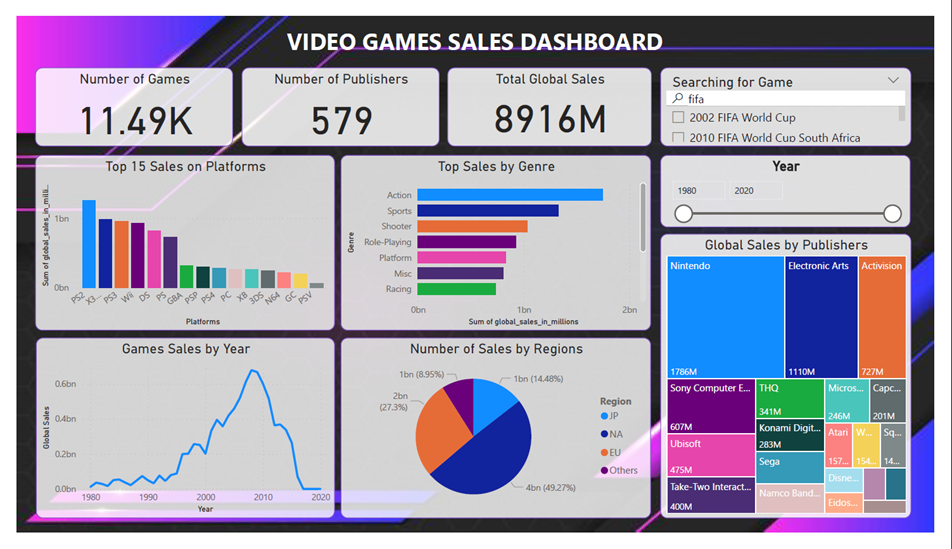

This screenshot's page, from the dashboard's own definition file:
{"tool":"powerbi","page":{"name":"Page 1","canvas":[1280,720],"ordinal":0},"visuals":[{"type":"card","title":"Number of Publishers","fields":{"Values":["Count(video_games_sales.publisher)"]},"box":[314.2,72,276.2,109.9],"z":0},{"type":"card","title":"Number of Games","fields":{"Values":["Count(video_games_sales.name)"]},"box":[26.3,72,276.2,109.9],"z":1000},{"type":"barChart","title":"Top Sales by Genre","fields":{"Category":["video_games_sales.genre"],"Series":["video_games_sales.genre"],"Y":["Sum(video_games_sales.global_sales_in_millions)"]},"box":[452.3,193.6,432.8,245.1],"z":2000},{"type":"slicer","title":"Year","fields":{"Values":["video_games_sales.year"]},"box":[897.8,193.6,349.2,101.2],"z":3000},{"type":"lineChart","title":"Games Sales by Year","fields":{"Category":["video_games_sales.year"],"Y":["Sum(video_games_sales.global_sales_in_millions)"]},"box":[27.2,449.4,417.3,251.9],"z":4000},{"type":"treemap","title":"Global Sales by Publishers","fields":{"Group":["video_games_sales.publisher"],"Values":["Sum(video_games_sales.global_sales_in_millions)"]},"box":[897.8,304.4,350.2,396.8],"z":5000},{"type":"columnChart","title":"Top 15 Sales on Platforms","fields":{"Category":["video_games_sales.platform"],"Series":["video_games_sales.platform"],"Y":["Sum(video_games_sales.global_sales_in_millions)"]},"box":[26.3,193.6,417.3,245.1],"z":6000},{"type":"slicer","fields":{"Values":["video_games_sales.name"]},"box":[897.8,72,350.2,109.9],"z":7000},{"type":"pieChart","title":"Number of Sales by Regions","fields":{"Y":["Sum(video_games_sales.jp_sales_in_millions)","Sum(video_games_sales.na_sales_in_millions)","Sum(video_games_sales.eu_sales_in_millions)","Sum(video_games_sales.other_sales_in_millions)"]},"box":[452.3,449.4,432.8,251.9],"z":8000},{"type":"card","title":"Total Global Sales","fields":{"Values":["Sum(video_games_sales.global_sales_in_millions)"]},"box":[601.1,72,285,109.9],"z":9000},{"type":"textbox","box":[302.5,7.8,674,58.4],"z":10000}]}

Visuals, with their boxes in screenshot pixels (x1, y1, x2, y2), scaled from the page's 1280x720 canvas onto the 952x549 screenshot:
"Number of Publishers" card: <region>234, 55, 439, 139</region>
"Number of Games" card: <region>20, 55, 225, 139</region>
"Top Sales by Genre" barChart: <region>336, 148, 658, 335</region>
"Year" slicer: <region>668, 148, 927, 225</region>
"Games Sales by Year" lineChart: <region>20, 343, 331, 535</region>
"Global Sales by Publishers" treemap: <region>668, 232, 928, 535</region>
"Top 15 Sales on Platforms" columnChart: <region>20, 148, 330, 335</region>
slicer - video_games_sales.name: <region>668, 55, 928, 139</region>
"Number of Sales by Regions" pieChart: <region>336, 343, 658, 535</region>
"Total Global Sales" card: <region>447, 55, 659, 139</region>
textbox: <region>225, 6, 726, 50</region>
